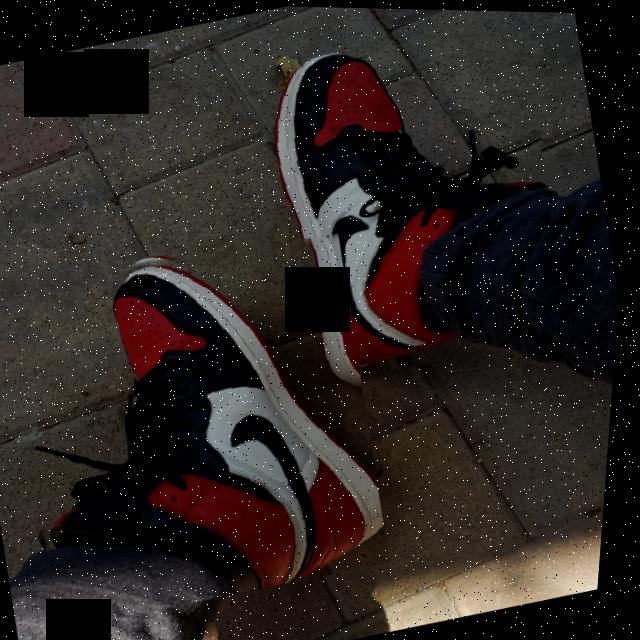shoe: (0, 206, 418, 637), (245, 5, 603, 394)
